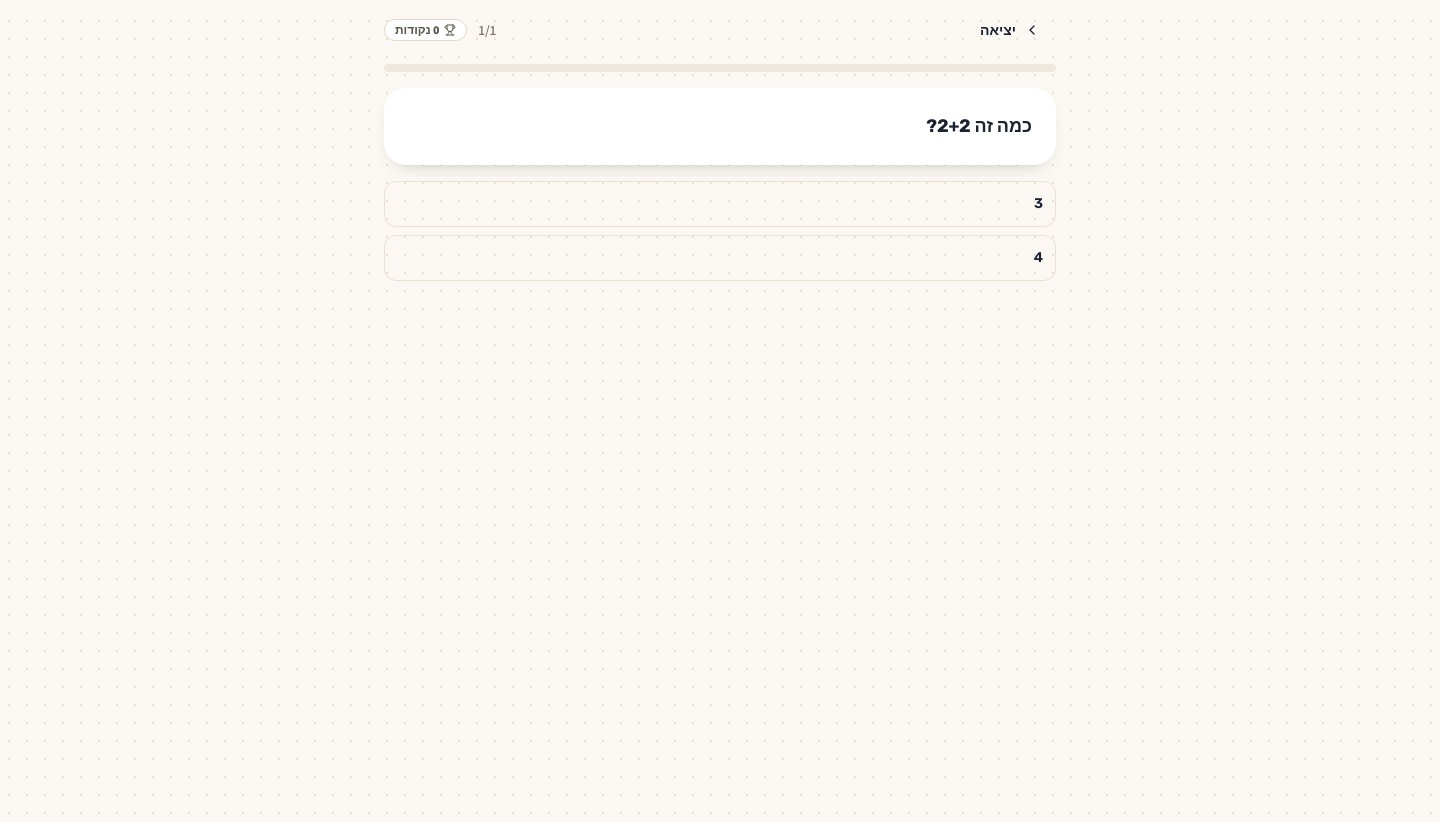
Test: StudentPracticePage save-score status › shows the saved confirmation once the grade write succeeds
This screenshot has width=1440, height=822.
Earlier steps of the test are not shown.
Step 1. Click the button "3" → (1038,204), box left=384, top=181, right=1056, bottom=227
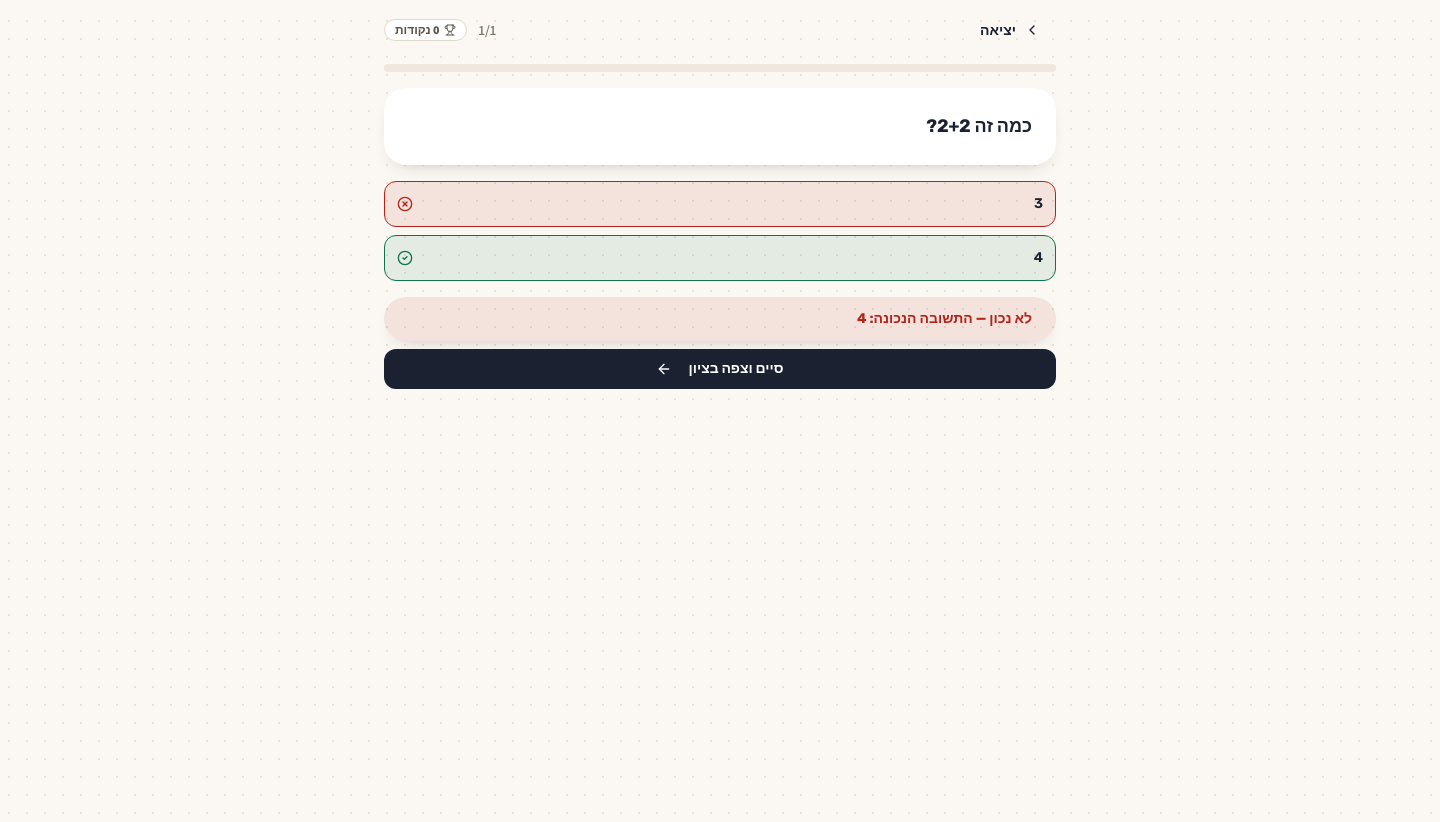
Step 2. Click the button "סיים וצפה בציון" → (720,369), box left=384, top=349, right=1056, bottom=389
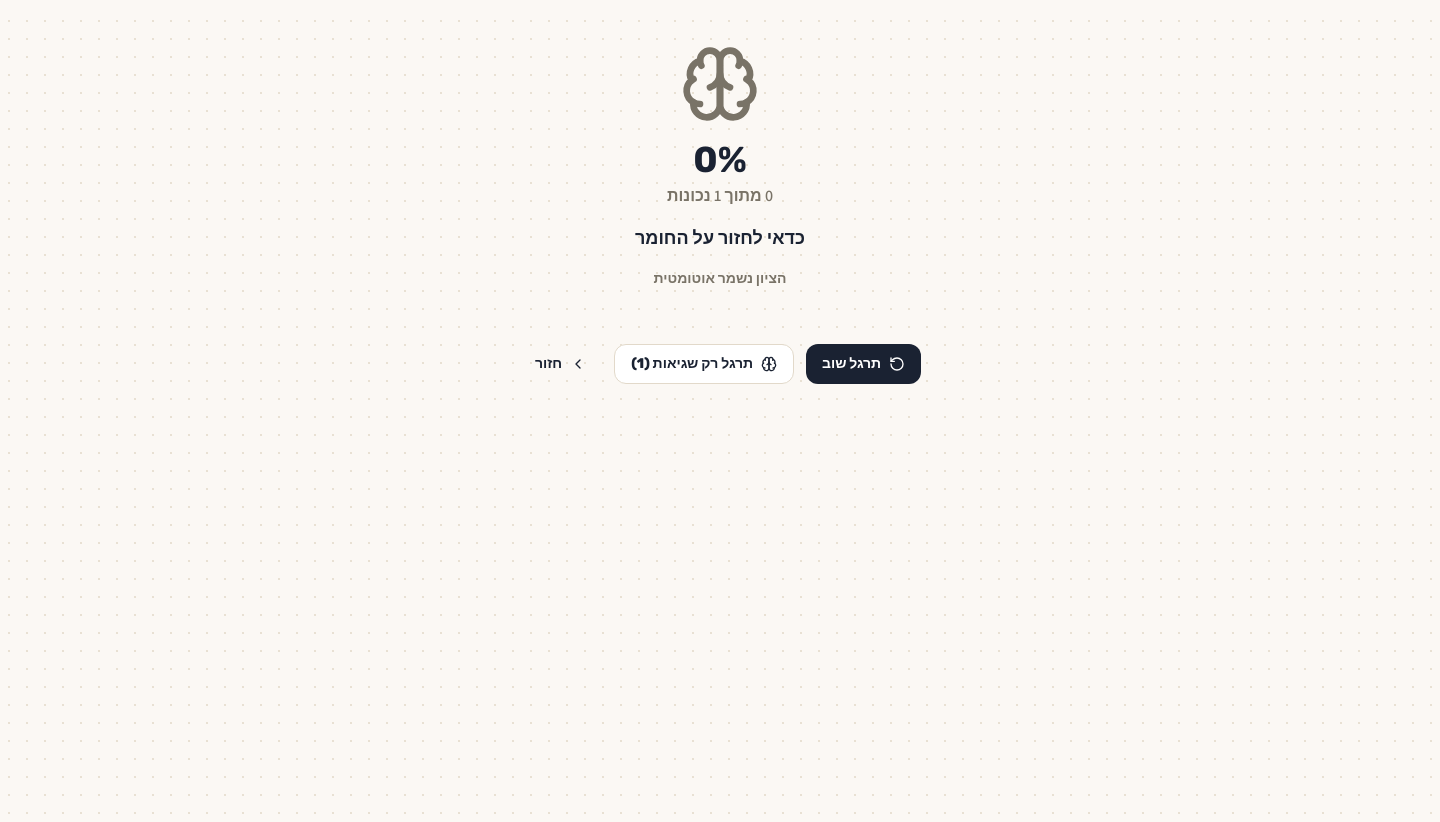
Now the text "הציון נשמר אוטומטית" is shown, box left=654, top=269, right=786, bottom=287
